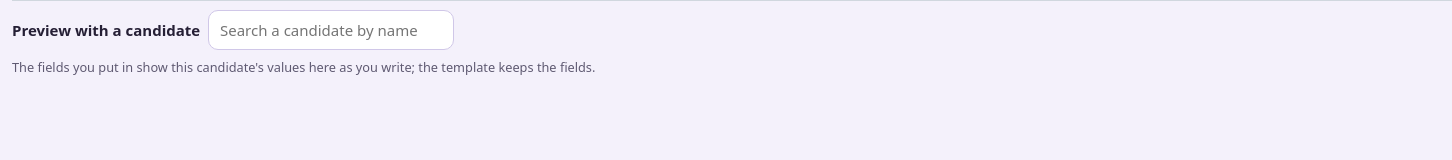
Test: template preview › says why when the preview cannot be made
Step 1. Type "Siti" into the field named "Candidate to preview with" → (331, 30), box [208, 10, 454, 50]
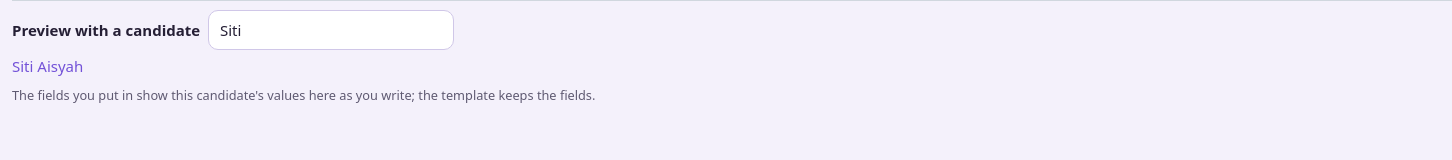
Step 2. Click the button "Siti Aisyah" → (48, 66), box [12, 55, 83, 78]
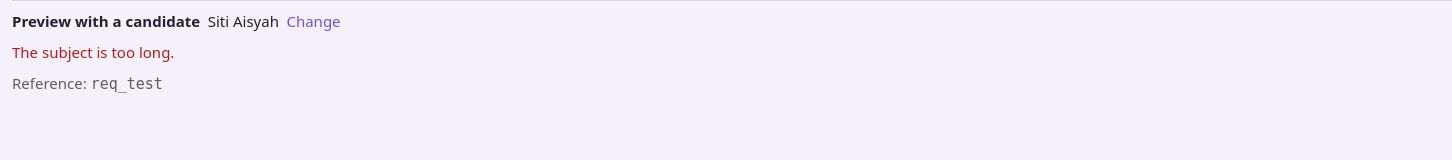
Result: the message shows "The subject is too long." at [12, 42, 174, 62]
